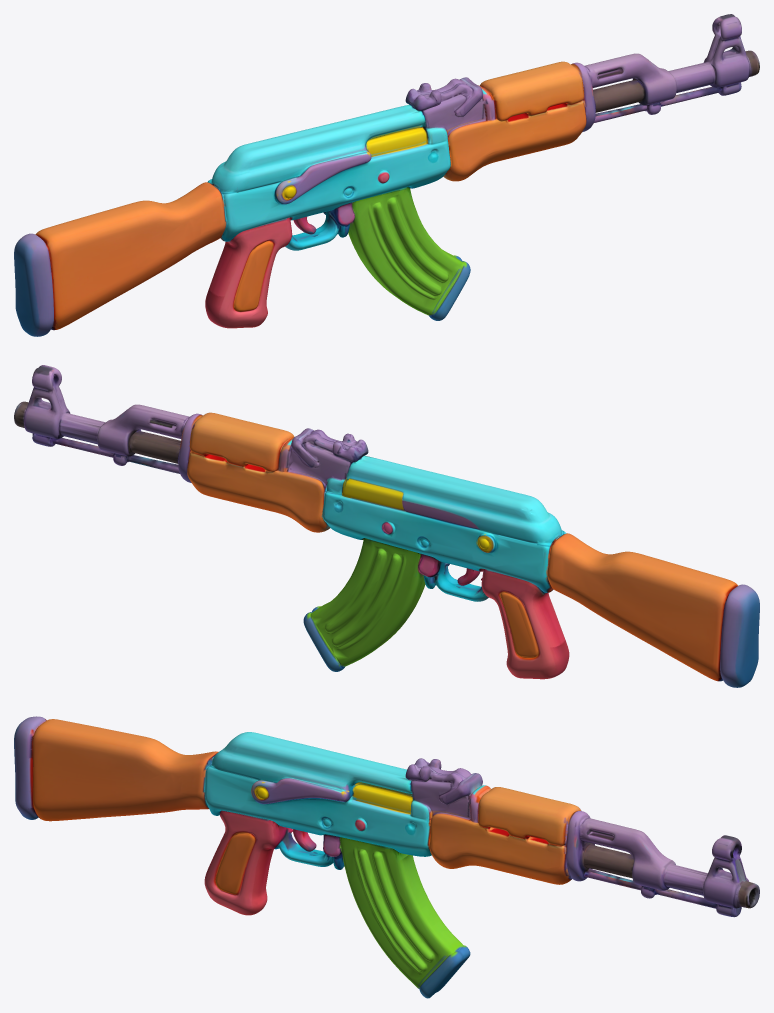
Rendered from Ak枪.glb.
The picture shows the model from 3 angles, top to bottom: view 1: azimuth 30°, elevation 25°; view 2: azimuth 150°, elevation 25°; view 3: azimuth 330°, elevation 25°; orthographic projection.
Parts seen in each view (by area): view 1: node_0; view 2: node_0; view 3: node_0.
Part boxes in pixels (x1,y1,x2,y2): node_0: (14,14,759,336); node_0: (14,365,759,687); node_0: (14,716,759,998).
Bounding box in the file's own units: 1.18 × 0.3541 × 0.085.
Materials: 1 (1 with a texture image).
